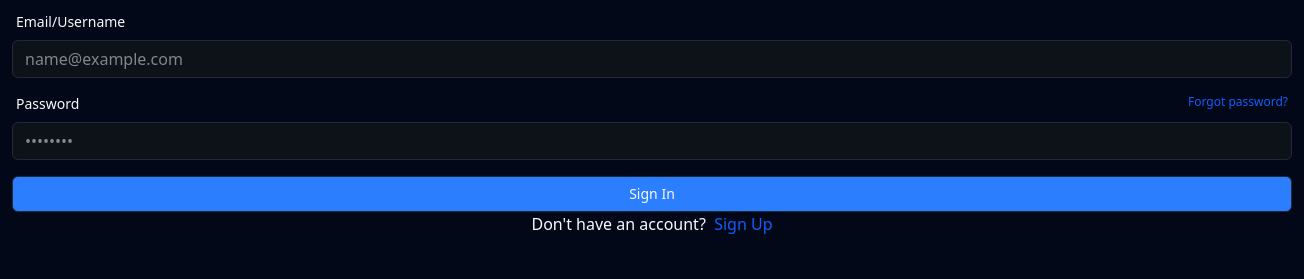
Scenario: SignInForm › handles generic/network errors
Type "test@example.com" into the field labelled "Email/Username" at (652, 59), box left=12, top=40, right=1292, bottom=78
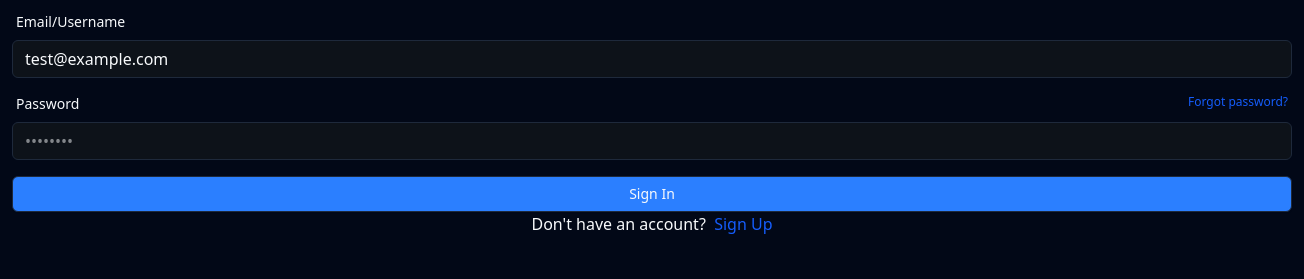
Type "password123" into the password field labelled "Password Forgot password?" at (652, 141), box left=12, top=122, right=1292, bottom=160
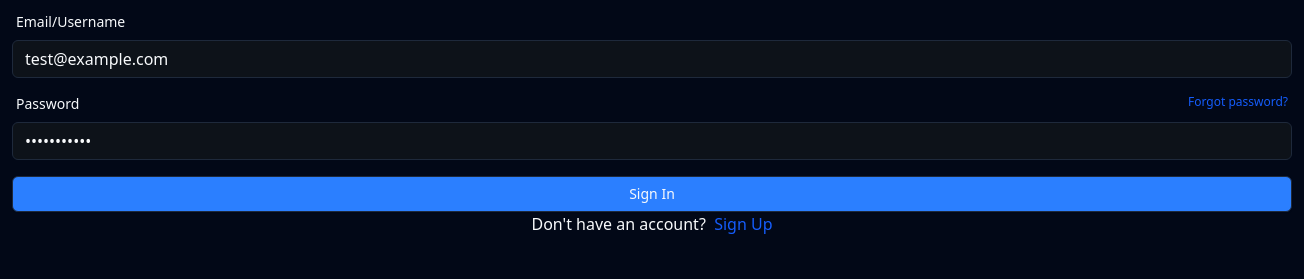
Click the button "Sign In" at (652, 194), box left=12, top=176, right=1292, bottom=212
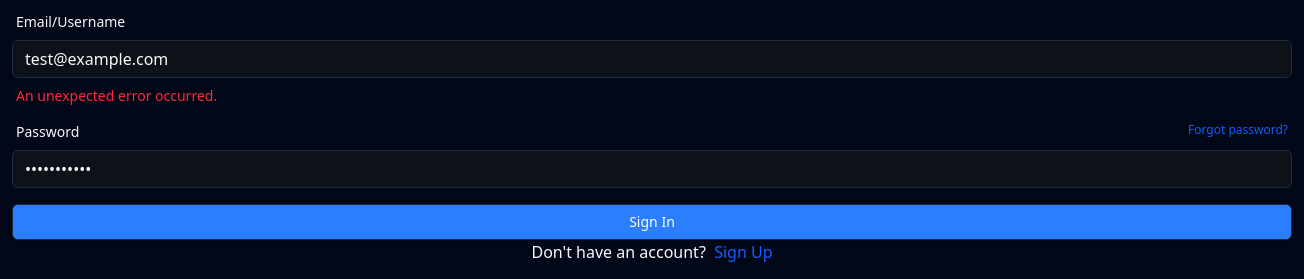
Expected: the button "Sign In" is enabled, left=12, top=204, right=1292, bottom=240
Expected: the text "An unexpected error occurred." is shown, left=16, top=86, right=217, bottom=105
